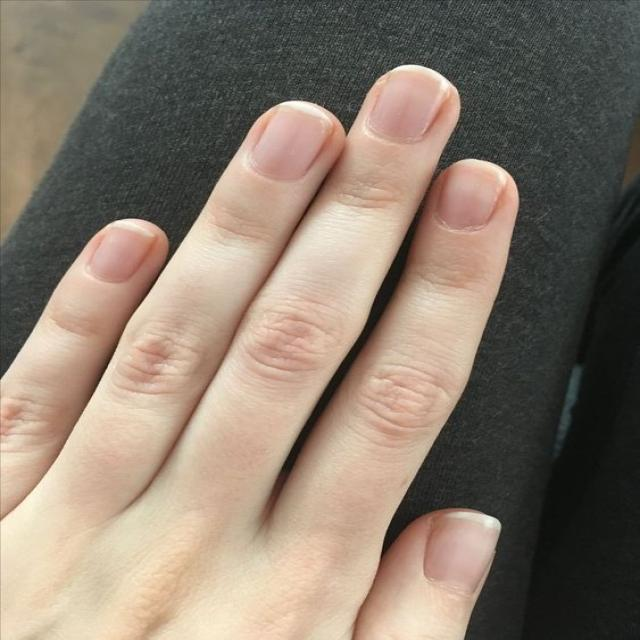Fingernail: (251, 103, 334, 183), (425, 512, 502, 598), (368, 65, 450, 144), (436, 158, 507, 231), (88, 221, 157, 283)
